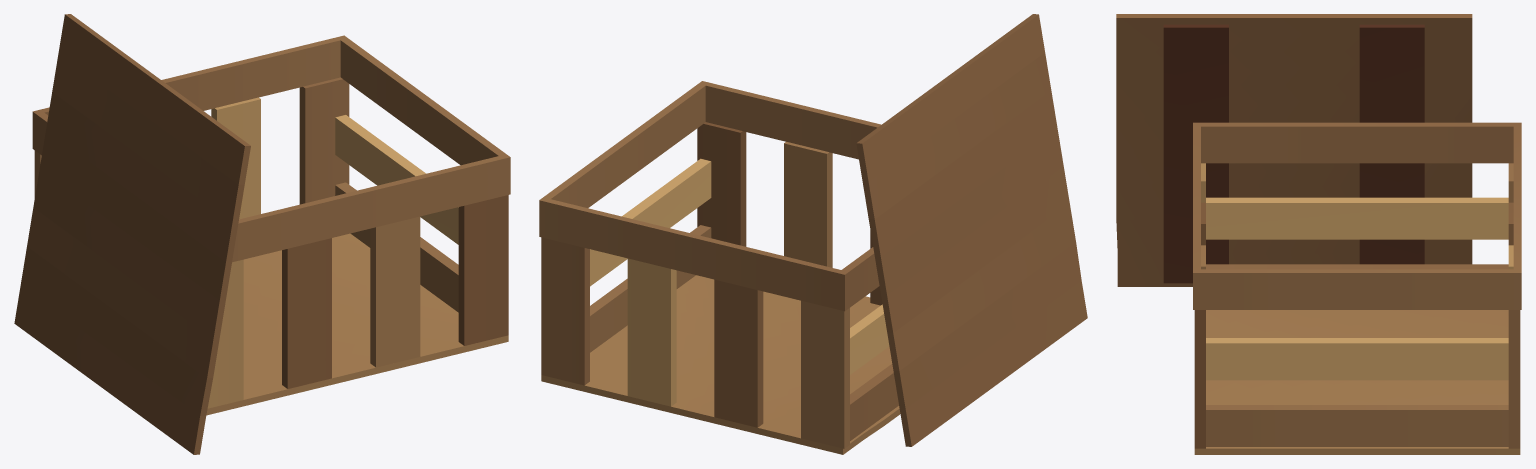
Rendered from Med Light Crate Leaned Lid.fbx.
3 views of the same model, side by side, from view 1: azimuth 30°, elevation 25°; view 2: azimuth 150°, elevation 25°; view 3: azimuth 270°, elevation 25° (orthographic).
Parts seen in each view (by area): view 1: Med Light Crate Leaned Lid; view 2: Med Light Crate Leaned Lid; view 3: Med Light Crate Leaned Lid.
Part boxes in pixels (x1=…): Med Light Crate Leaned Lid: x1=14, y1=14, x2=510, y2=454; Med Light Crate Leaned Lid: x1=539, y1=14, x2=1087, y2=454; Med Light Crate Leaned Lid: x1=1116, y1=14, x2=1521, y2=454.
Bounding box in the file's own units: 190 × 237 × 236.
Materials: 1 (1 with a texture image).
